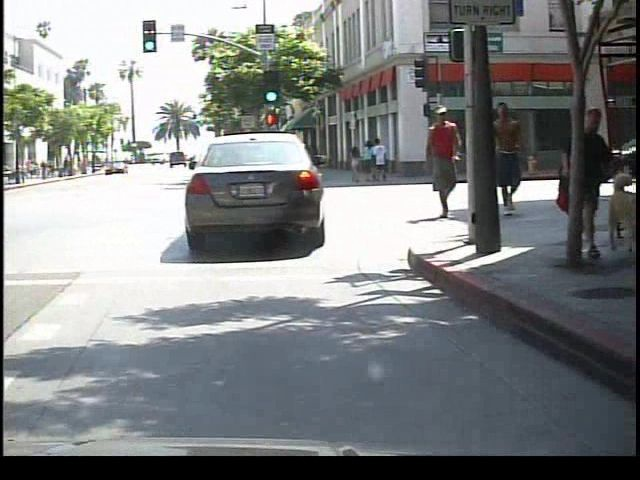person: (418, 100, 463, 223), (489, 97, 532, 222)
